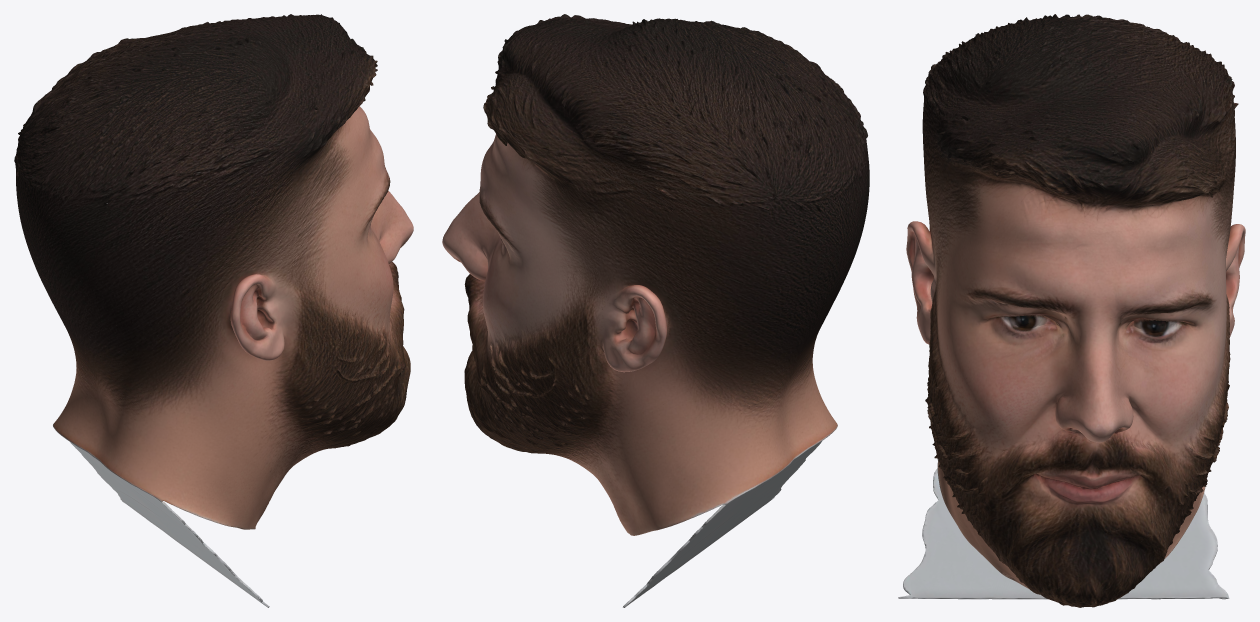
Rendered from artin-head.glb.
3 views of the same model, side by side, from view 1: azimuth 30°, elevation 25°; view 2: azimuth 150°, elevation 25°; view 3: azimuth 270°, elevation 25° (orthographic). The views are drawn at different scales.
Visible parts, largest first — view 1: tripo_node_884f55d9-0cc3-4d29-a454-45f369c08830; view 2: tripo_node_884f55d9-0cc3-4d29-a454-45f369c08830; view 3: tripo_node_884f55d9-0cc3-4d29-a454-45f369c08830.
Boxes of the visible parts, bbox=[...] form: tripo_node_884f55d9-0cc3-4d29-a454-45f369c08830: bbox=[14, 14, 413, 607]; tripo_node_884f55d9-0cc3-4d29-a454-45f369c08830: bbox=[442, 14, 869, 607]; tripo_node_884f55d9-0cc3-4d29-a454-45f369c08830: bbox=[898, 14, 1245, 607].
Bounding box in the file's own units: 0.7855 × 0.9847 × 0.5419.
1 material, 1 textured.
